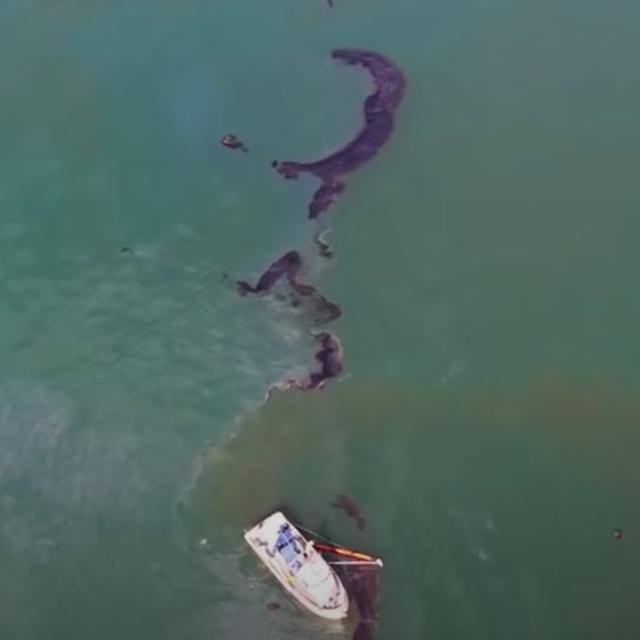truecolor: (272, 48, 407, 218), (298, 524, 382, 640), (237, 251, 342, 324), (269, 332, 343, 396), (331, 496, 369, 531), (221, 134, 249, 152)
